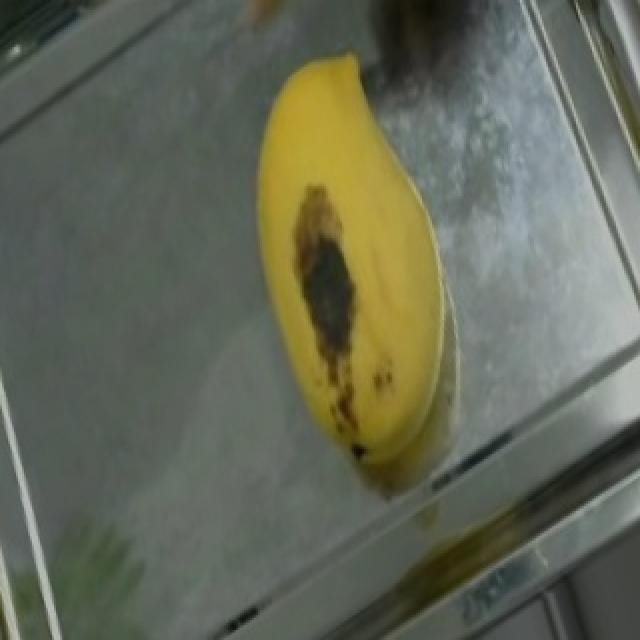fruit: (194, 15, 516, 392)
